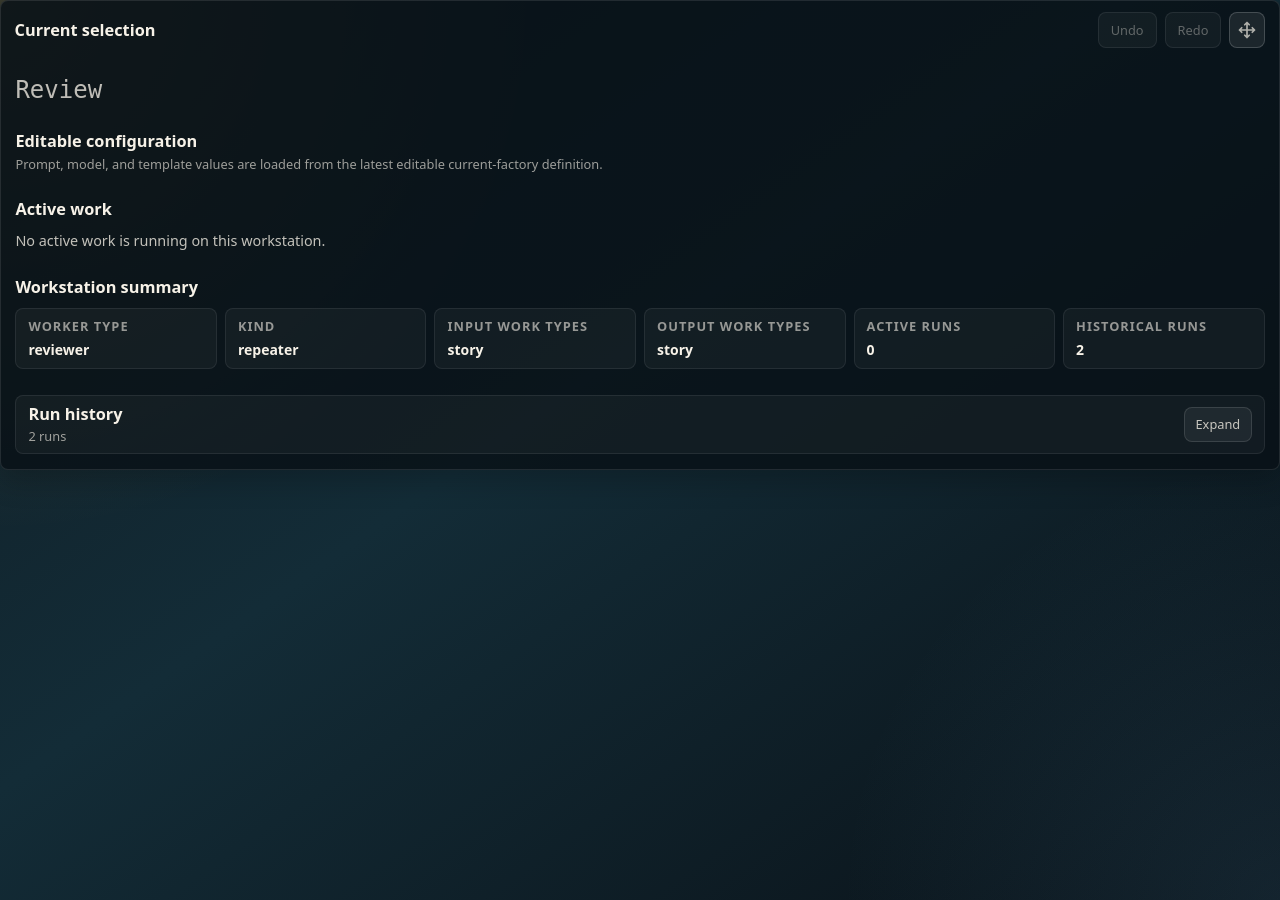
Test: WorkstationDetailCard › falls back to secondary provider metadata when no explicit session log exists
Click the button "Expand" at (1218, 424), box [1184,407,1252,442]
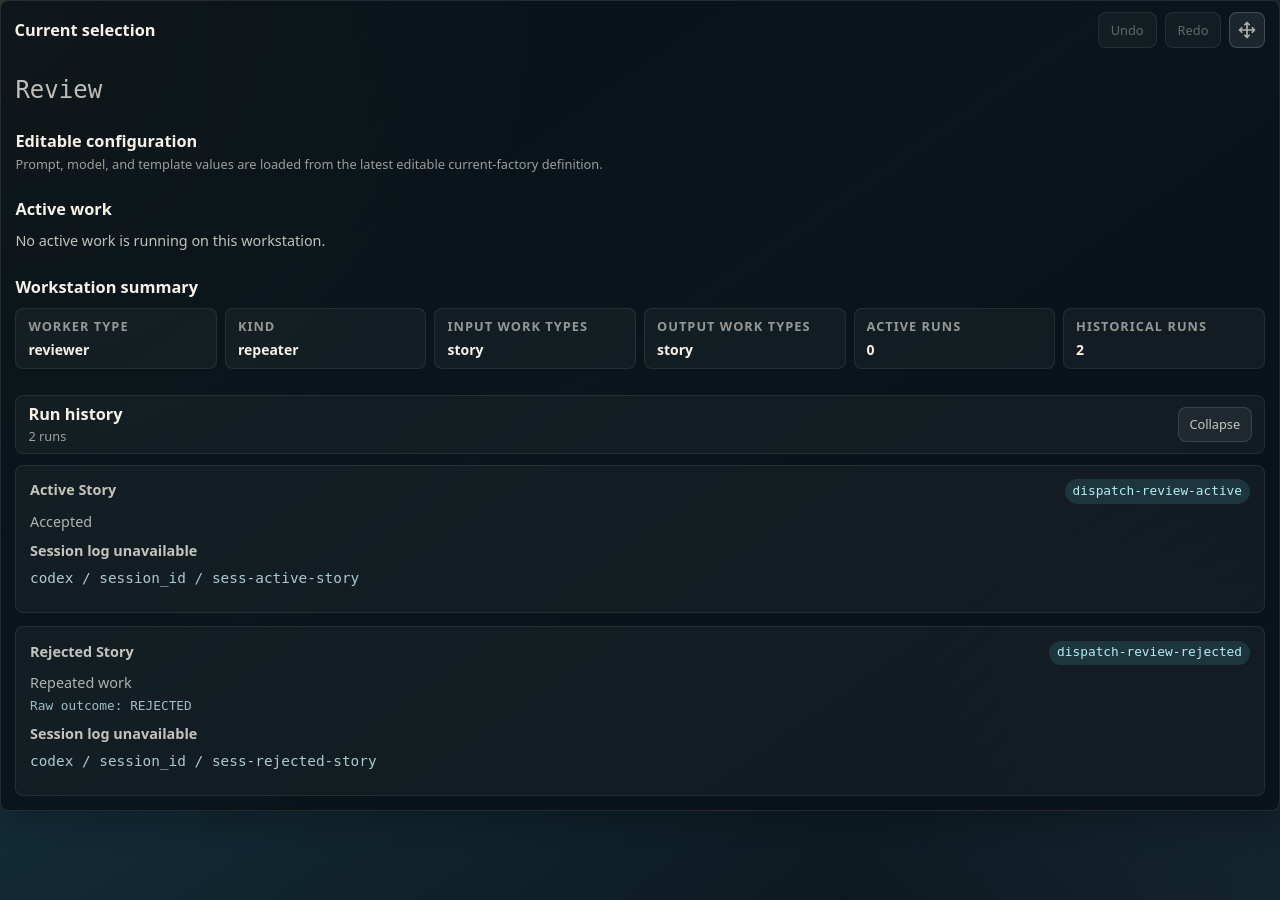
Check: the text "Session log unavailable" below "Accepted" is shown, box [30,541,197,560]
Check: the text "codex / session_id / sess-rejected-story" is shown, box [30,753,377,769]
